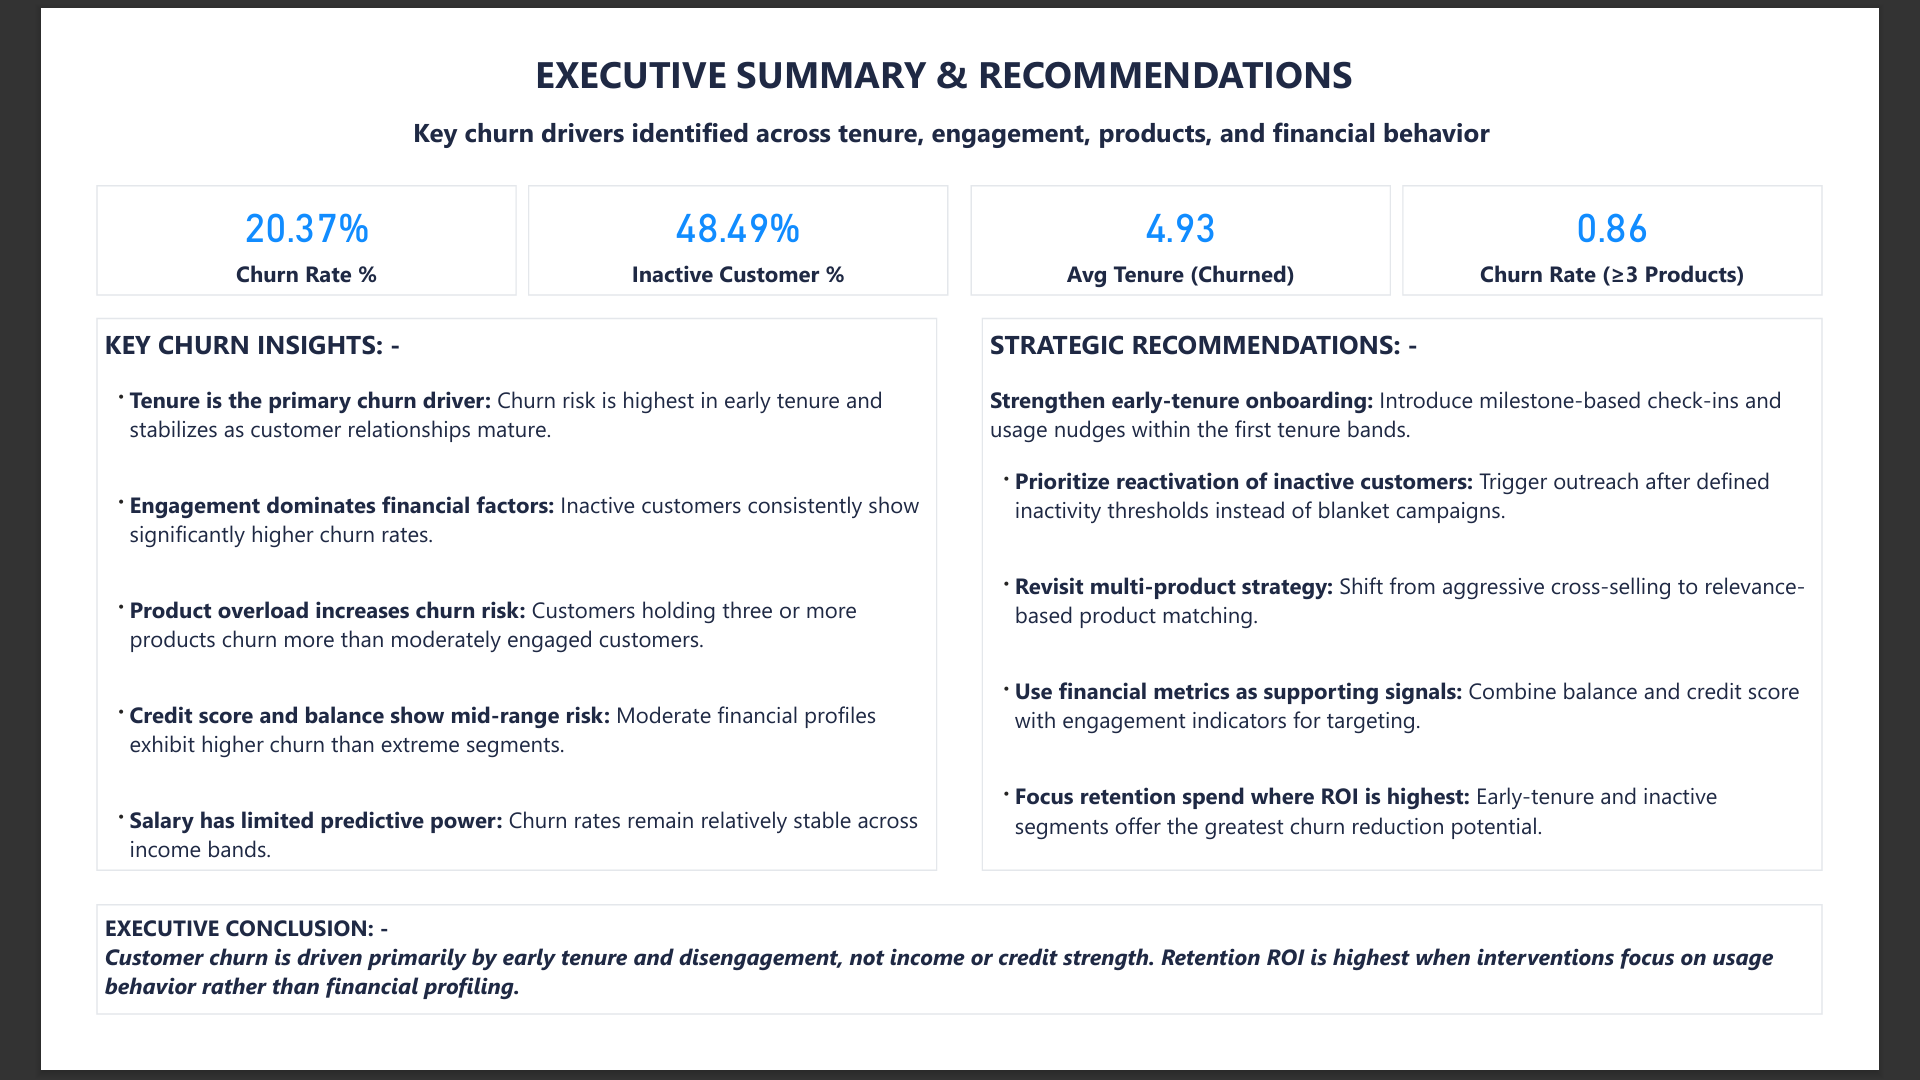

The page's visual inventory and layout, read from the dashboard file:
{"tool":"powerbi","page":{"name":"Page 4","canvas":[1280,720],"ordinal":2},"visuals":[{"type":"textbox","box":[328,0,616,48],"z":0},{"type":"textbox","box":[240,48,800,40],"z":1000},{"type":"textbox","box":[16,200,608,400],"z":2000},{"type":"textbox","box":[656,200,608,400],"z":3000},{"type":"textbox","box":[16,624,1248,80],"z":4000},{"type":"card","fields":{"Values":["Churn_Modelling.Churn Rate %"]},"box":[16,104,304,80],"z":5000},{"type":"card","fields":{"Values":["Churn_Modelling.Inactive Customer %"]},"box":[328,104,304,80],"z":6000},{"type":"card","fields":{"Values":["Churn_Modelling.Avg Tenure (Churned)"]},"box":[648,104,304,80],"z":7000},{"type":"card","fields":{"Values":["Churn_Modelling.Churn Rate (≥3 Products)"]},"box":[960,104,304,80],"z":8000}]}

Visuals, with their boxes in screenshot pixels (x1, y1, x2, y2), scaled from the page's 1280x720 canvas onto the 1920x1080 screenshot:
textbox: Rect(492, 0, 1416, 72)
textbox: Rect(360, 72, 1560, 132)
textbox: Rect(24, 300, 936, 900)
textbox: Rect(984, 300, 1896, 900)
textbox: Rect(24, 936, 1896, 1056)
card - Churn_Modelling.Churn Rate %: Rect(24, 156, 480, 276)
card - Churn_Modelling.Inactive Customer %: Rect(492, 156, 948, 276)
card - Churn_Modelling.Avg Tenure (Churned): Rect(972, 156, 1428, 276)
card - Churn_Modelling.Churn Rate (≥3 Products): Rect(1440, 156, 1896, 276)
